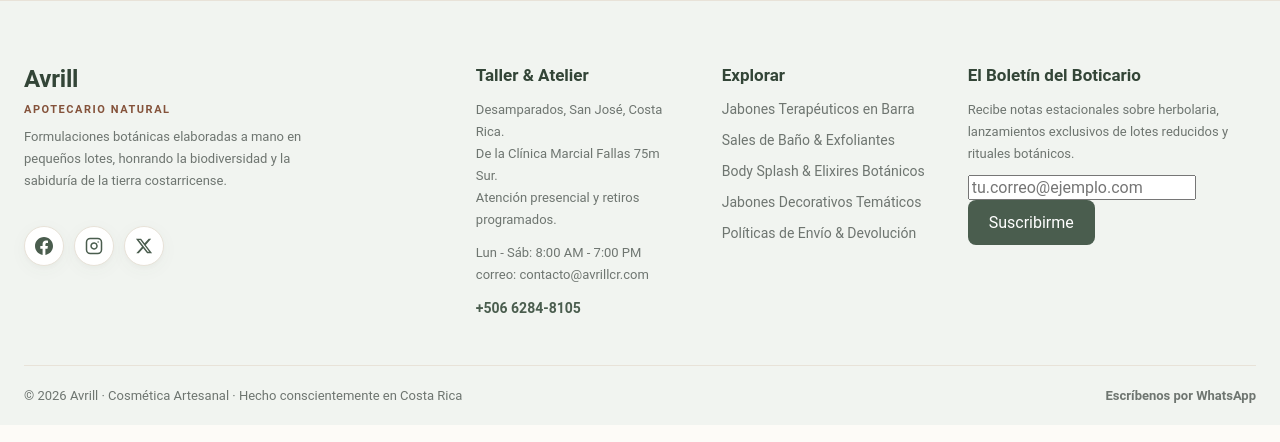
componentes generales › renderiza el pie y confirma una suscripción válida al boletín
Type "ana@example.com" into the field with placeholder "tu.correo@ejemplo.com".
click(1082, 188); type("ana@example.com")  # box [968,175,1196,200]
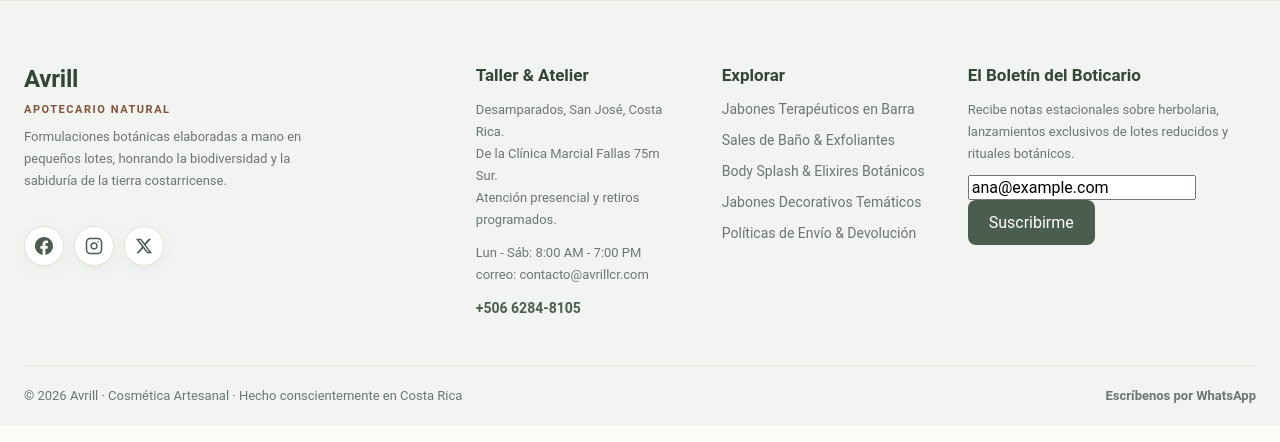
Click the button "Suscribirme".
click(1031, 223)  # box [968,200,1095,245]
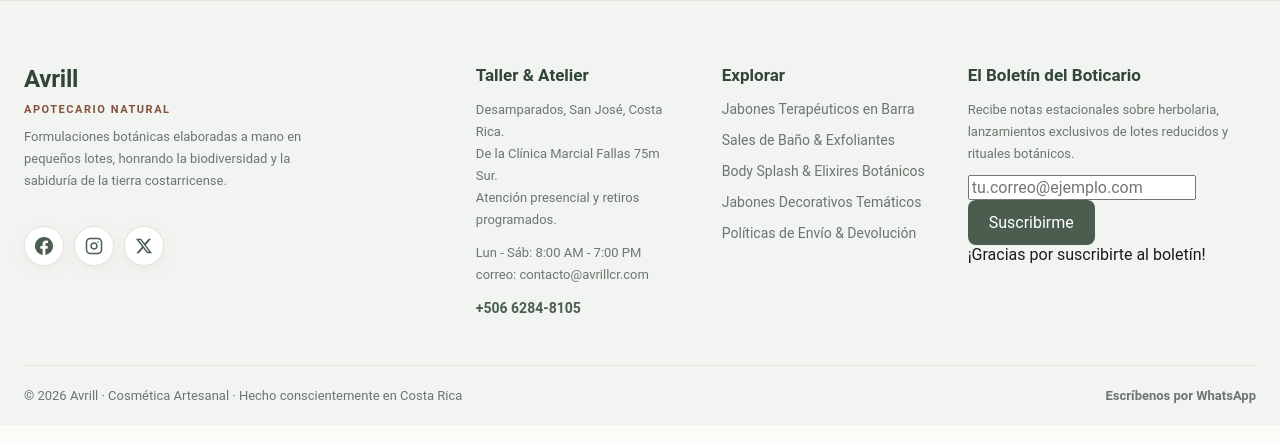
Check: the text "¡Gracias por suscribirte al boletín!" is shown, box [968,245,1206,264]
